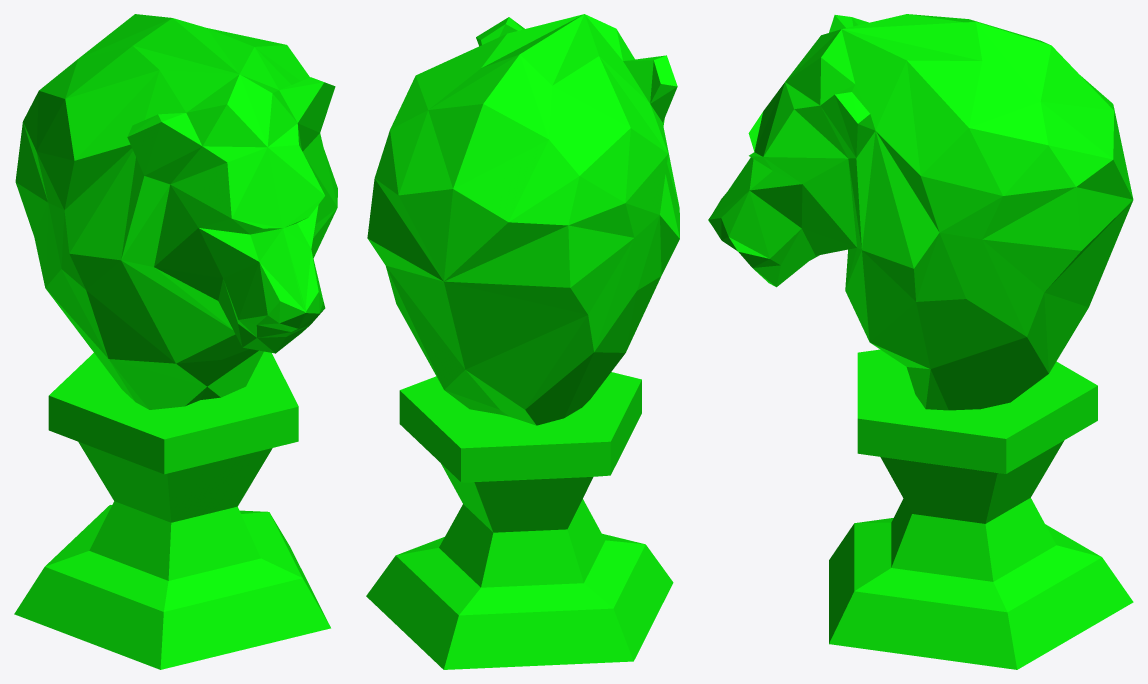
Rendered from SM_Battlemap_Figurine_Lion_Fantasy.fbx.
3 views of the same model, side by side, from view 1: azimuth 30°, elevation 25°; view 2: azimuth 150°, elevation 25°; view 3: azimuth 270°, elevation 25° (orthographic). The views are drawn at different scales.
Parts seen in each view (by area): view 1: battlemap-figurine-lion-fantasy; view 2: battlemap-figurine-lion-fantasy; view 3: battlemap-figurine-lion-fantasy.
Part boxes in pixels (x1,y1,x2,y2): battlemap-figurine-lion-fantasy: [14, 14, 337, 669]; battlemap-figurine-lion-fantasy: [366, 14, 679, 669]; battlemap-figurine-lion-fantasy: [708, 14, 1133, 669].
Bounding box in the file's own units: 0.1528 × 0.3054 × 0.2029.
